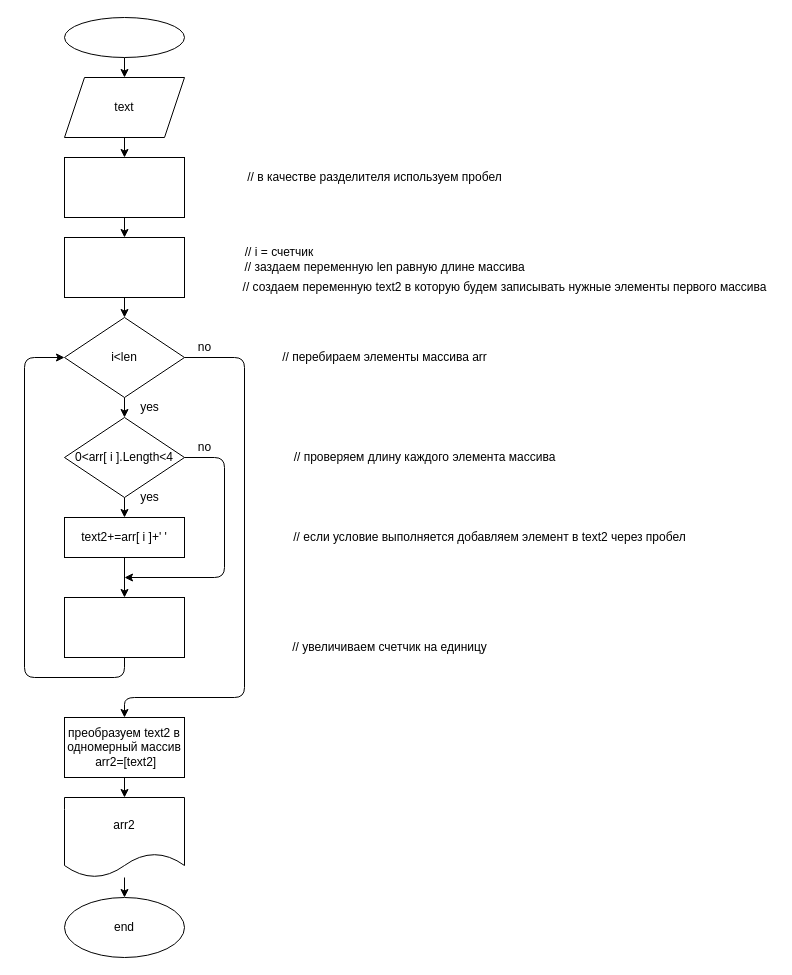
The diagram is 792 pixels wide and 975 high, and some of its shapes have lost their labels. The centre of each missing label's shape, as x and y in pixels:
i++: (x=124, y=627)
i=0 len=arr.Length text2: (x=124, y=267)
start: (x=124, y=37)
преобразуем текст в одномерный массив arr=[text]: (x=124, y=187)
